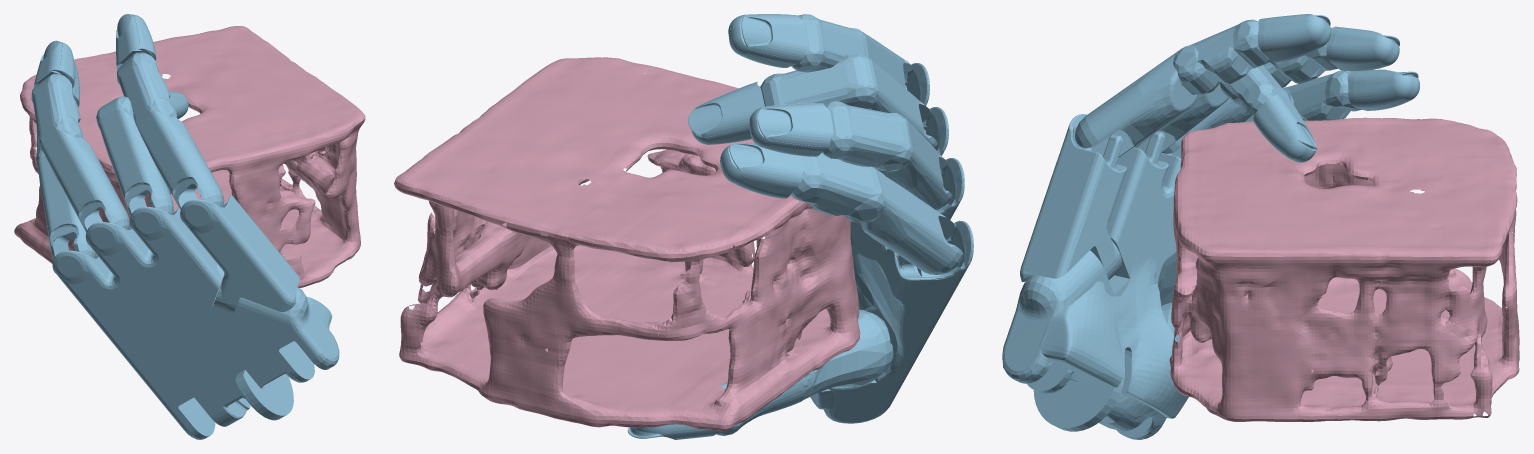
The picture shows the model from 3 angles, left to right: view 1: azimuth 30°, elevation 25°; view 2: azimuth 150°, elevation 25°; view 3: azimuth 270°, elevation 25°; orthographic projection. The views are drawn at different scales.
Visible parts, largest first — view 1: hand_isaac_q, world; view 2: world, hand_isaac_q; view 3: world, hand_isaac_q.
Part boxes in pixels (bbox=[...]): hand_isaac_q: bbox=[31, 14, 339, 439]; world: bbox=[14, 26, 365, 292]; world: bbox=[394, 57, 860, 431]; hand_isaac_q: bbox=[627, 14, 973, 439]; world: bbox=[1169, 117, 1519, 421]; hand_isaac_q: bbox=[1002, 14, 1419, 439].
Size of the model in its own units: 0.1637 by 0.1767 by 0.1944.
